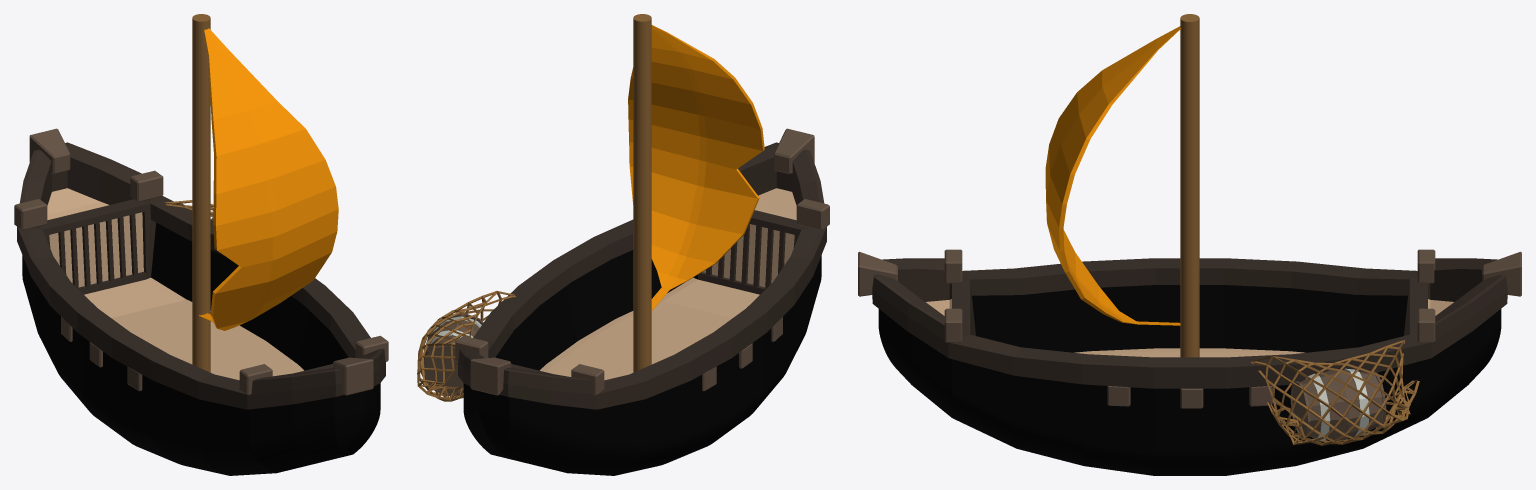
Rendered from Boat_leaf_updated.fbx.
3 renders of one model, left to right at view 1: azimuth 30°, elevation 25°; view 2: azimuth 150°, elevation 25°; view 3: azimuth 270°, elevation 25°, orthographic. The views are drawn at different scales.
Visible parts, largest first — view 1: Boat.029; view 2: Boat.029; view 3: Boat.029.
Part boxes in pixels (<box>): Boat.029: <box>14,14,388,475</box>; Boat.029: <box>417,14,829,475</box>; Boat.029: <box>858,14,1521,475</box>.
Size of the model in its own units: 393 by 583 by 837.
